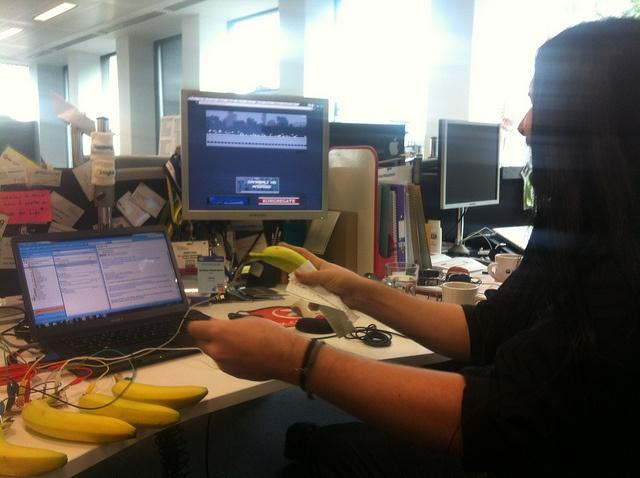AIO PC-Monitor-TV: (435, 118, 501, 208)
Meja: (179, 88, 329, 220)
